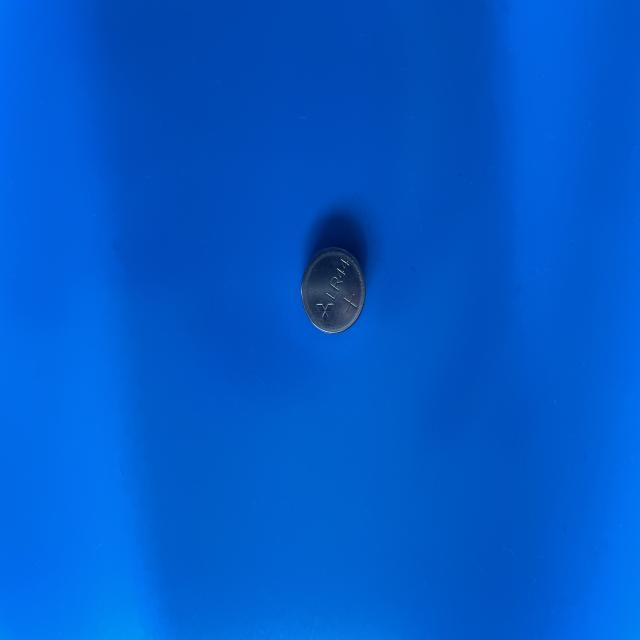COIN: (300, 243, 367, 334)
